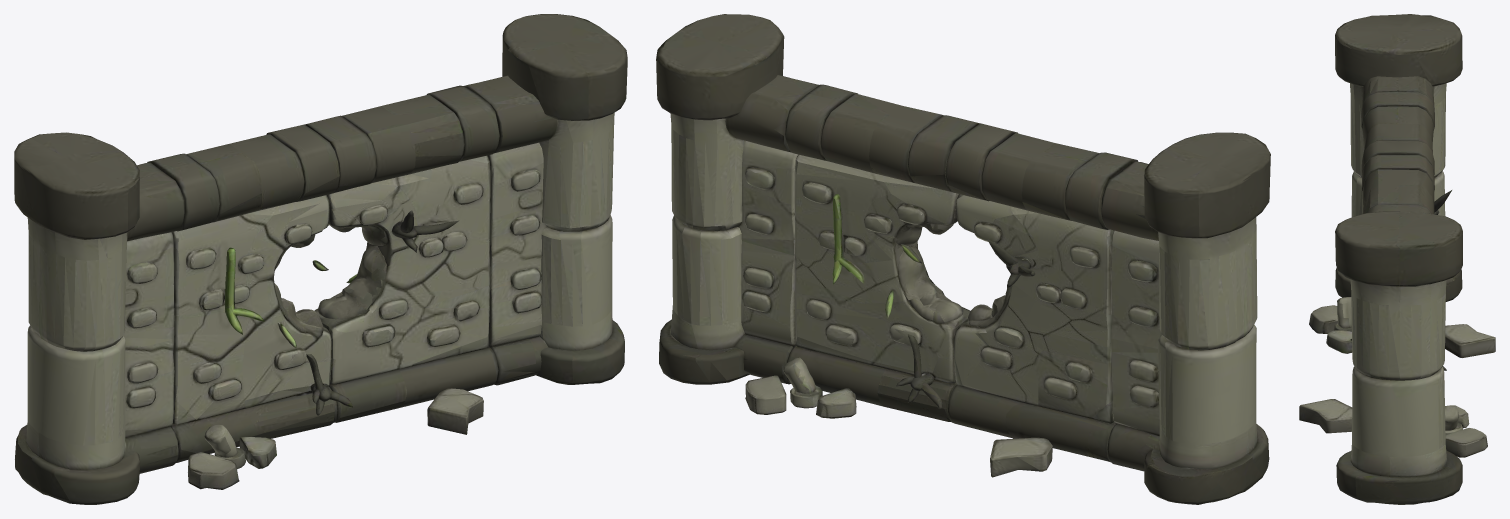
Rendered from jd_muro_brecha.glb.
3 views of the same model, side by side, from view 1: azimuth 30°, elevation 25°; view 2: azimuth 150°, elevation 25°; view 3: azimuth 270°, elevation 25° (orthographic). The views are drawn at different scales.
Visible parts, largest first — view 1: mesh_node; view 2: mesh_node; view 3: mesh_node.
Boxes of the visible parts, box(x1,y1,x2,y2) form: mesh_node: box(14, 14, 627, 504); mesh_node: box(656, 14, 1270, 504); mesh_node: box(1299, 14, 1495, 504).
Bounding box in the file's own units: 1 × 0.5234 × 0.3574.
Materials: 1 (1 with a texture image).
